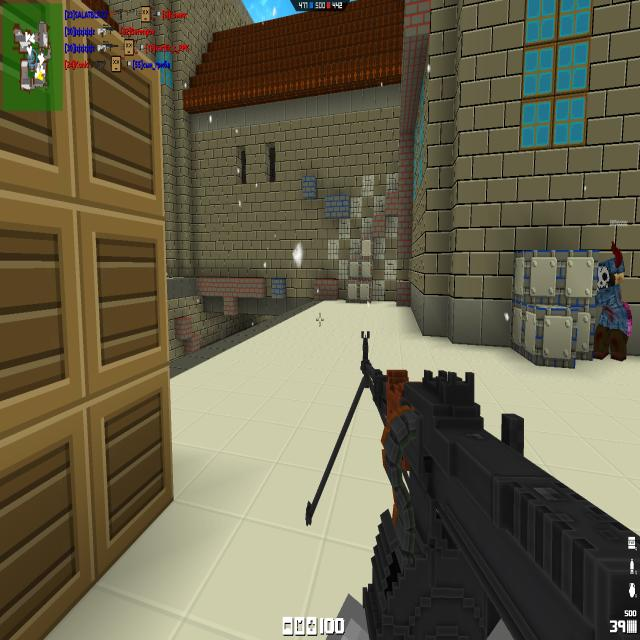player: (591, 239, 631, 365)
